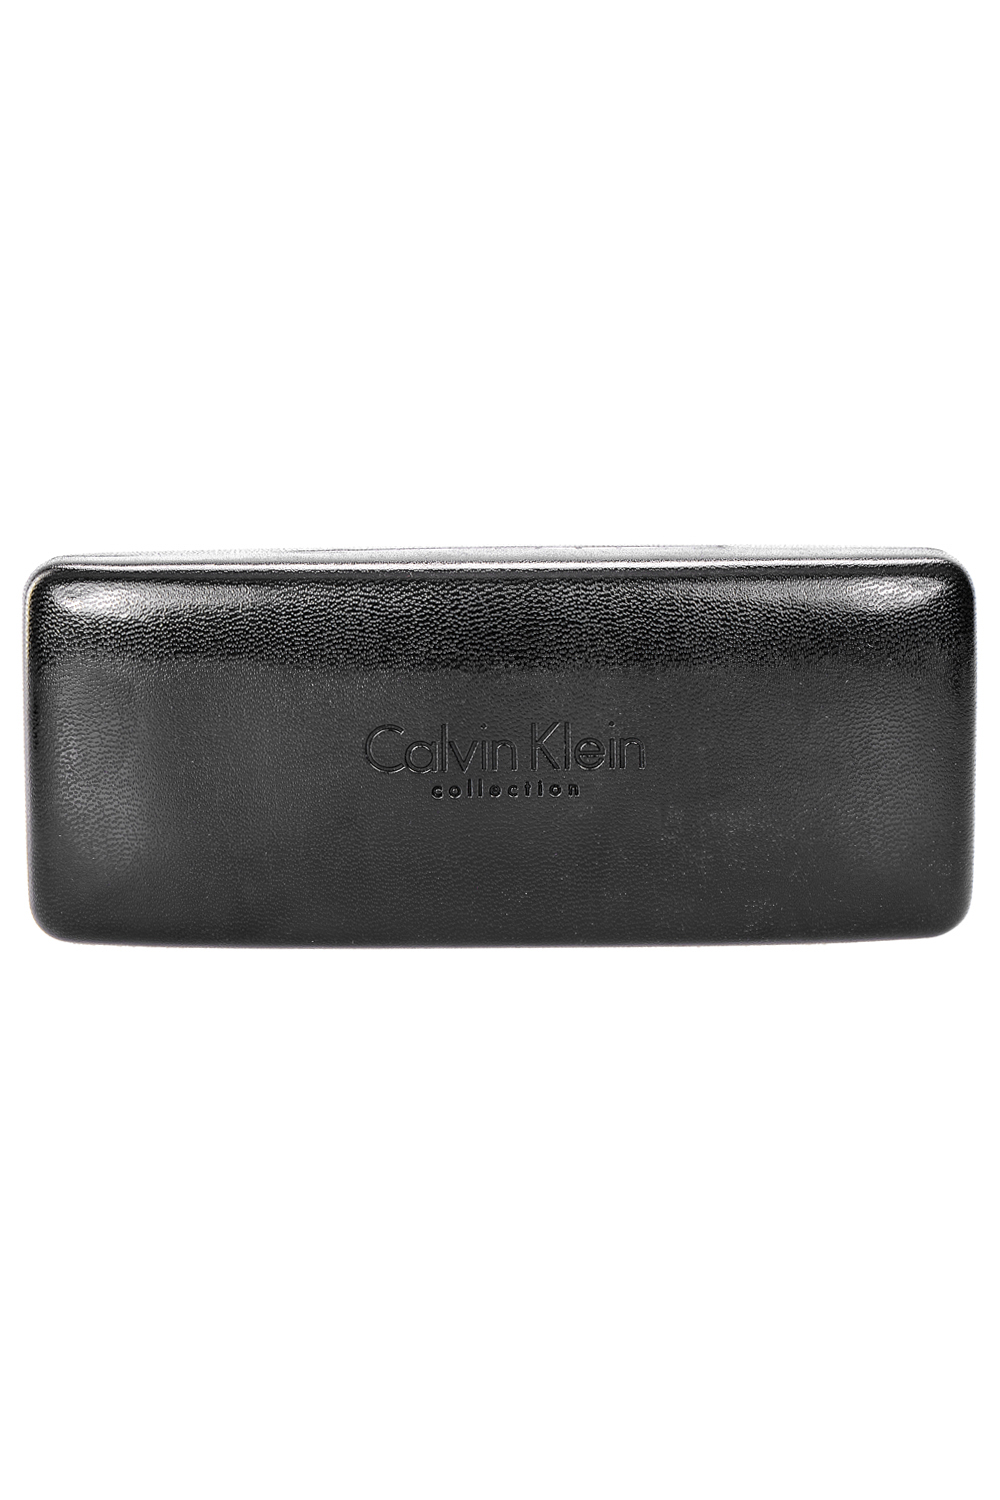Calvin Klein: (344, 698, 670, 785)
